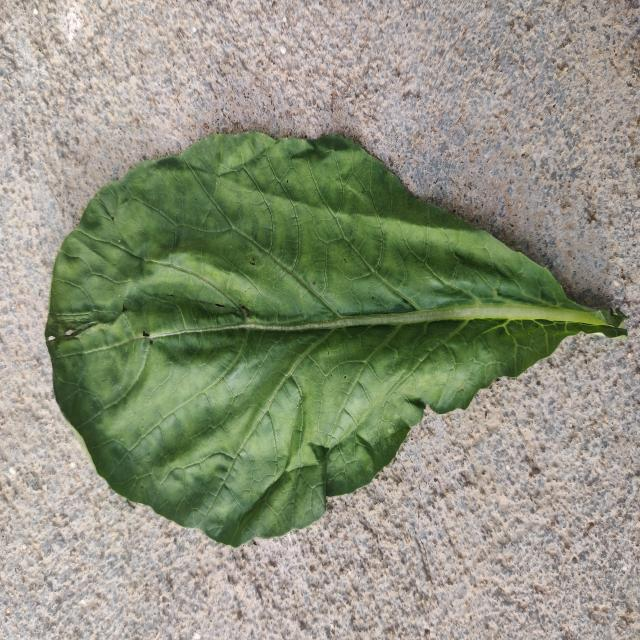raddish: (46, 133, 618, 545)
